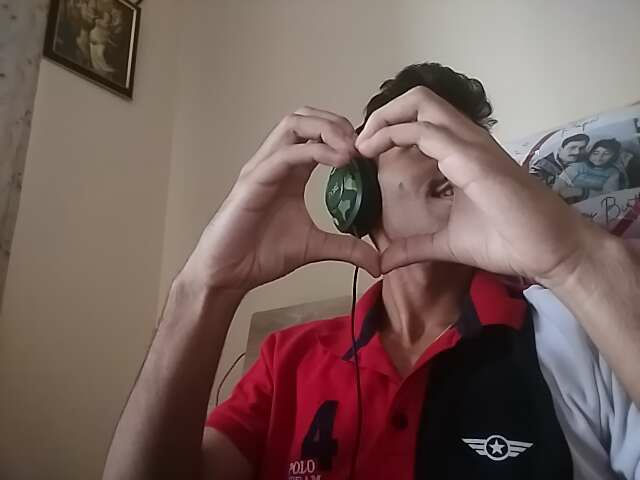I Love You: (147, 73, 583, 310)
